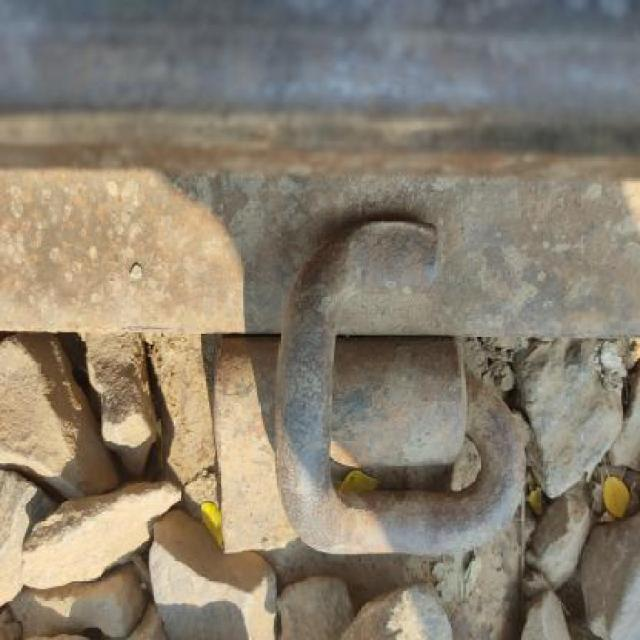defective: (0, 0, 640, 524)
